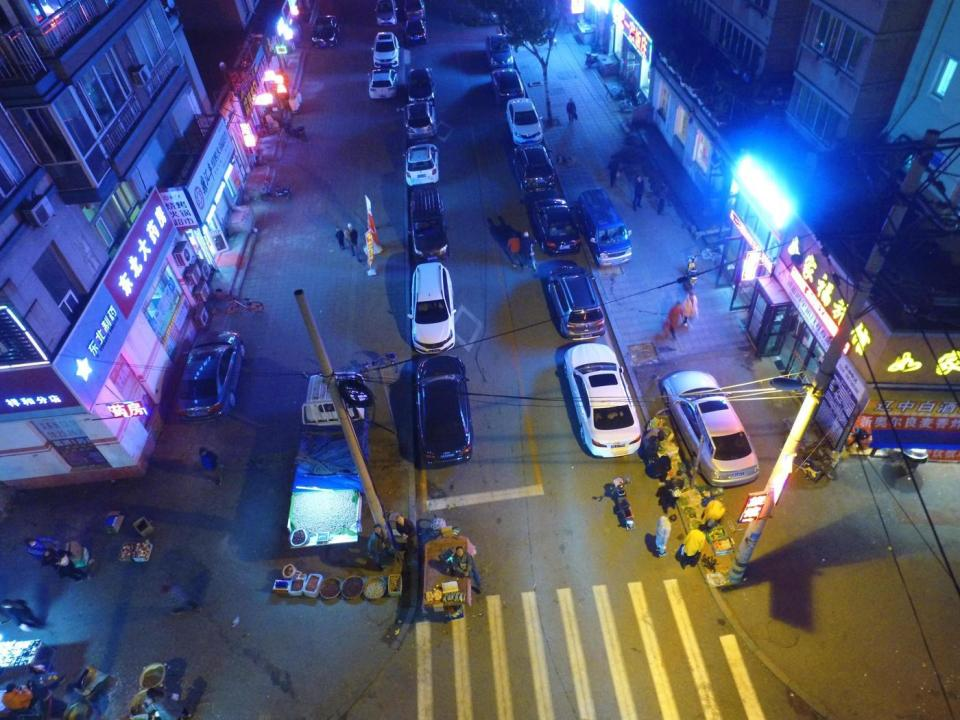car: (660, 369, 760, 488), (564, 342, 642, 458), (175, 328, 245, 426), (416, 354, 475, 468), (548, 263, 606, 342), (411, 260, 455, 354), (532, 196, 582, 257), (513, 144, 557, 195), (505, 96, 543, 144), (404, 141, 440, 187), (404, 99, 438, 138), (491, 66, 526, 103), (407, 64, 436, 103), (311, 12, 340, 50), (484, 32, 514, 68), (368, 66, 398, 101), (404, 15, 427, 44), (374, 1, 398, 26), (402, 0, 426, 20)
truck: (286, 370, 368, 533)
van: (576, 187, 632, 268), (410, 185, 450, 262), (372, 30, 399, 64)
